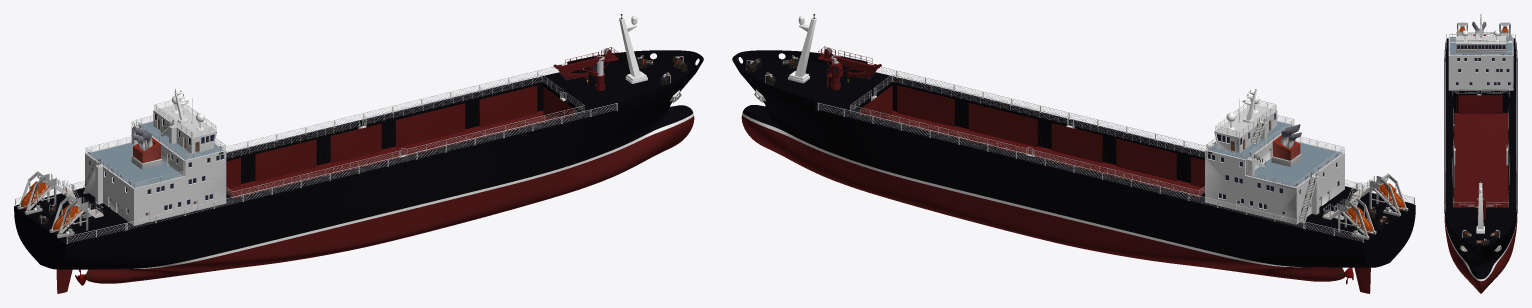
The model's file is ship_empty.glb.
3 renders of one model, left to right at view 1: azimuth 30°, elevation 25°; view 2: azimuth 150°, elevation 25°; view 3: azimuth 270°, elevation 25°, orthographic. The views are drawn at different scales.
Parts seen in each view (by area): view 1: Object_79, Plane, Object_22, Object_16, Object_13, Object_70, Object_60, Object_41, Object_12; view 2: Object_79, Plane, Object_22, Object_16, Object_13, Object_70, Object_41, Object_60, Object_12; view 3: Plane, Object_79, Object_16, Object_22, Object_60, Object_13, Object_41, Object_17, Object_66, Object_70.
Boxes of the visible parts, box(x1,y1,x2,y2) form: Object_79: box(14, 50, 703, 269); Plane: box(56, 47, 694, 293); Object_22: box(15, 16, 693, 268); Object_16: box(17, 56, 604, 238); Object_13: box(87, 121, 223, 187); Object_70: box(21, 181, 81, 232); Object_60: box(30, 113, 223, 213); Object_41: box(38, 14, 687, 224); Object_12: box(133, 137, 160, 163); Object_79: box(732, 50, 1415, 267); Plane: box(741, 46, 1370, 293); Object_22: box(742, 16, 1414, 267); Object_16: box(831, 55, 1408, 239); Object_13: box(1208, 121, 1341, 187); Object_70: box(1345, 183, 1404, 233); Object_41: box(745, 14, 1388, 227); Object_60: box(1207, 113, 1394, 215); Object_12: box(1272, 135, 1300, 160); Plane: box(1444, 95, 1517, 293); Object_79: box(1444, 38, 1517, 278); Object_16: box(1448, 22, 1513, 199); Object_22: box(1444, 15, 1517, 281); Object_60: box(1456, 26, 1510, 85); Object_13: box(1450, 37, 1512, 55); Object_41: box(1454, 15, 1511, 245); Object_17: box(1453, 34, 1508, 187); Object_66: box(1457, 21, 1510, 35); Object_70: box(1458, 26, 1508, 35).
Bounding box in the file's own units: 131 × 34.49 × 19.
Materials: 37 (32 with a texture image).
